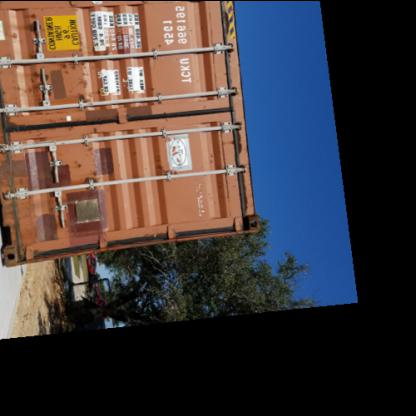Damage: (12, 194, 60, 248), (61, 53, 91, 101), (16, 64, 50, 98), (10, 7, 43, 42), (76, 142, 100, 178)
